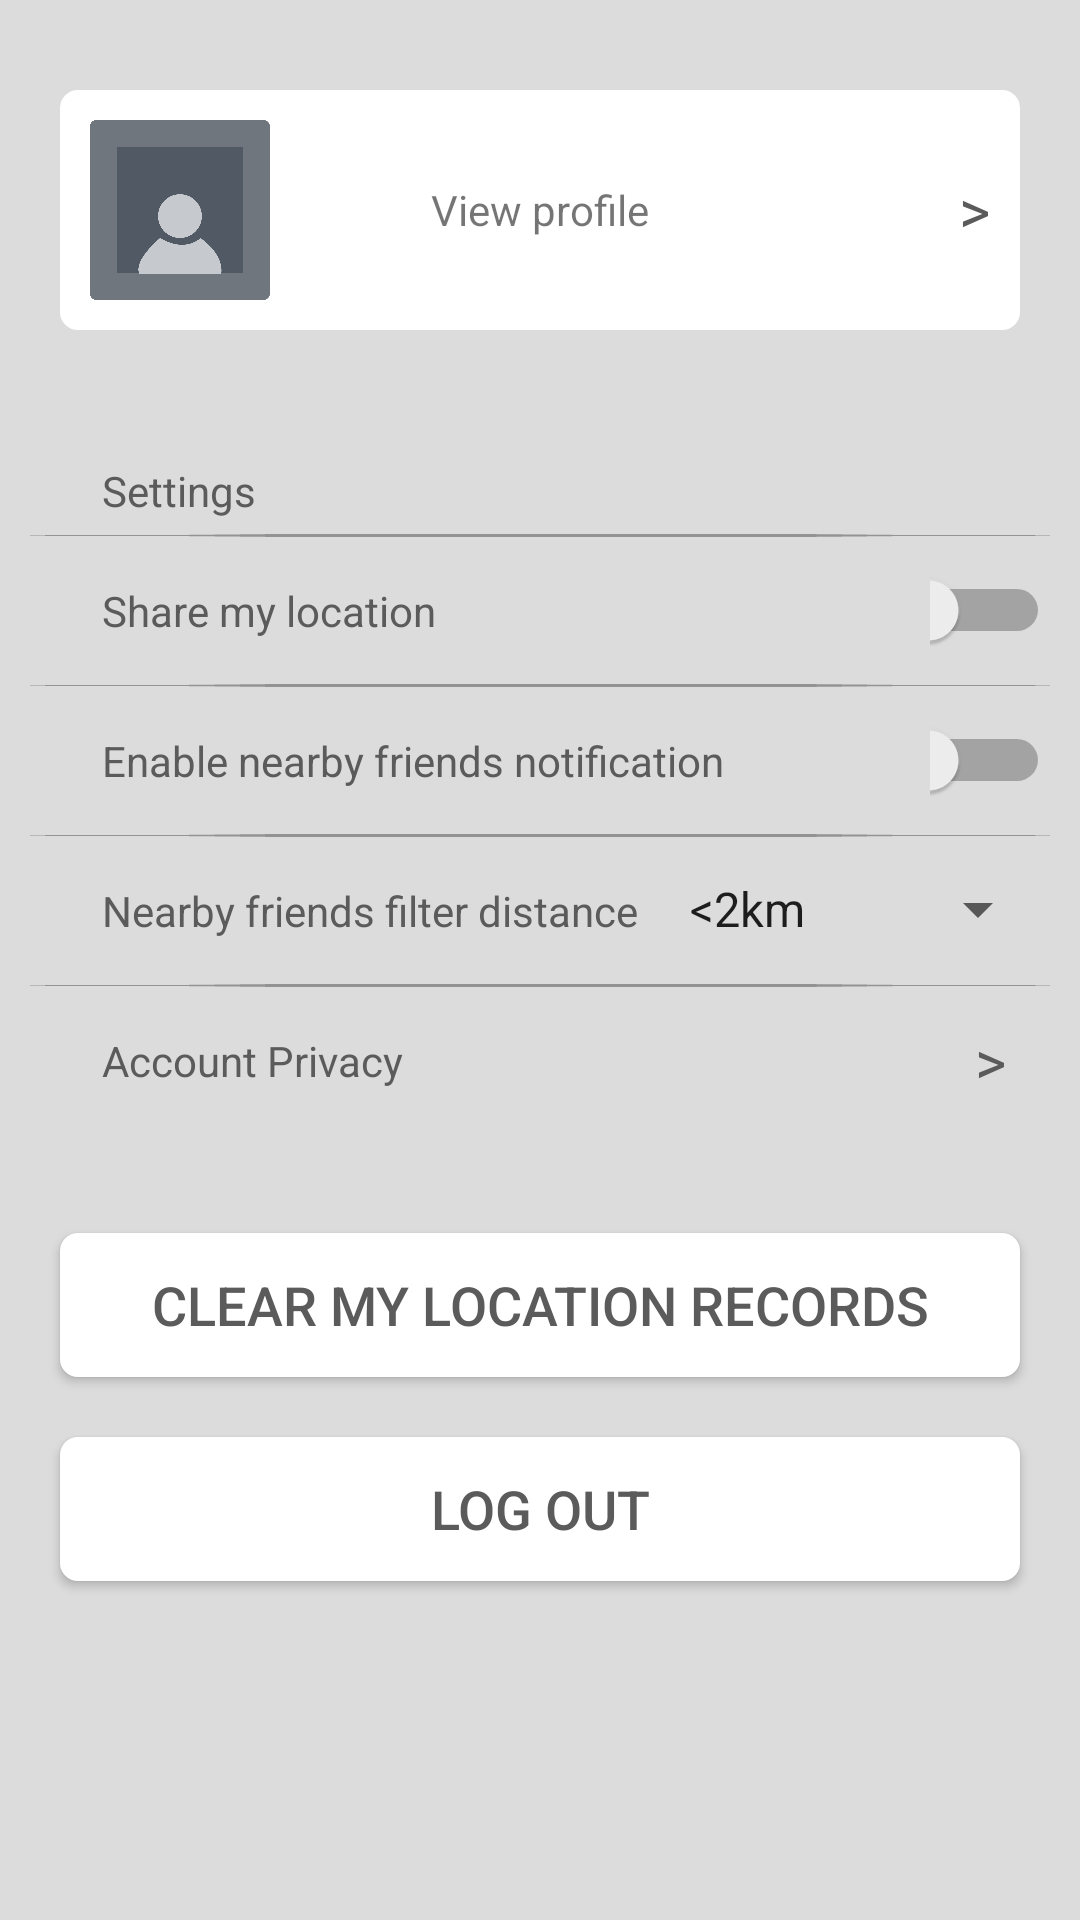

Icon click points for this 1080px×1920px phone screenshot, format point (x, y):
profilephoto: point (180, 210)
